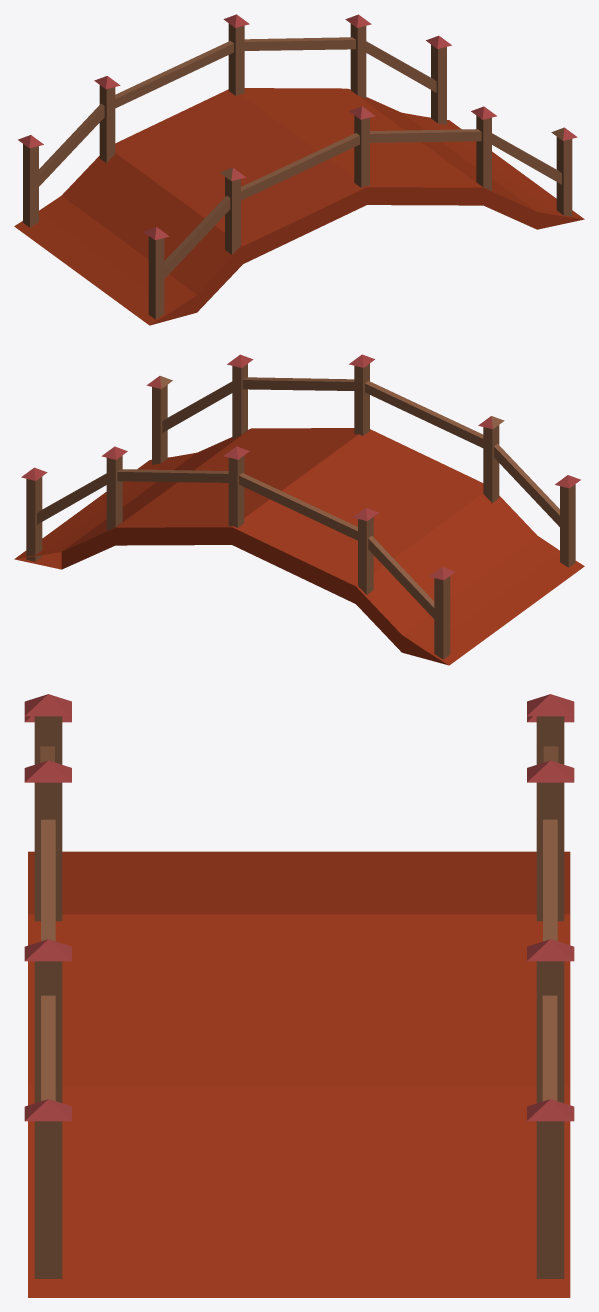
Rendered from Bridge.fbx.
3 renders of one model, top to bottom at view 1: azimuth 30°, elevation 25°; view 2: azimuth 150°, elevation 25°; view 3: azimuth 270°, elevation 25°, orthographic. The views are drawn at different scales.
Visible parts, largest first — view 1: Circle; view 2: Circle; view 3: Circle.
Part boxes in pixels (x1,y1,x2,y2): Circle: (14, 14, 584, 325); Circle: (14, 354, 584, 665); Circle: (24, 694, 574, 1297).
Bounding box in the file's own units: 256 × 91.41 × 140.
